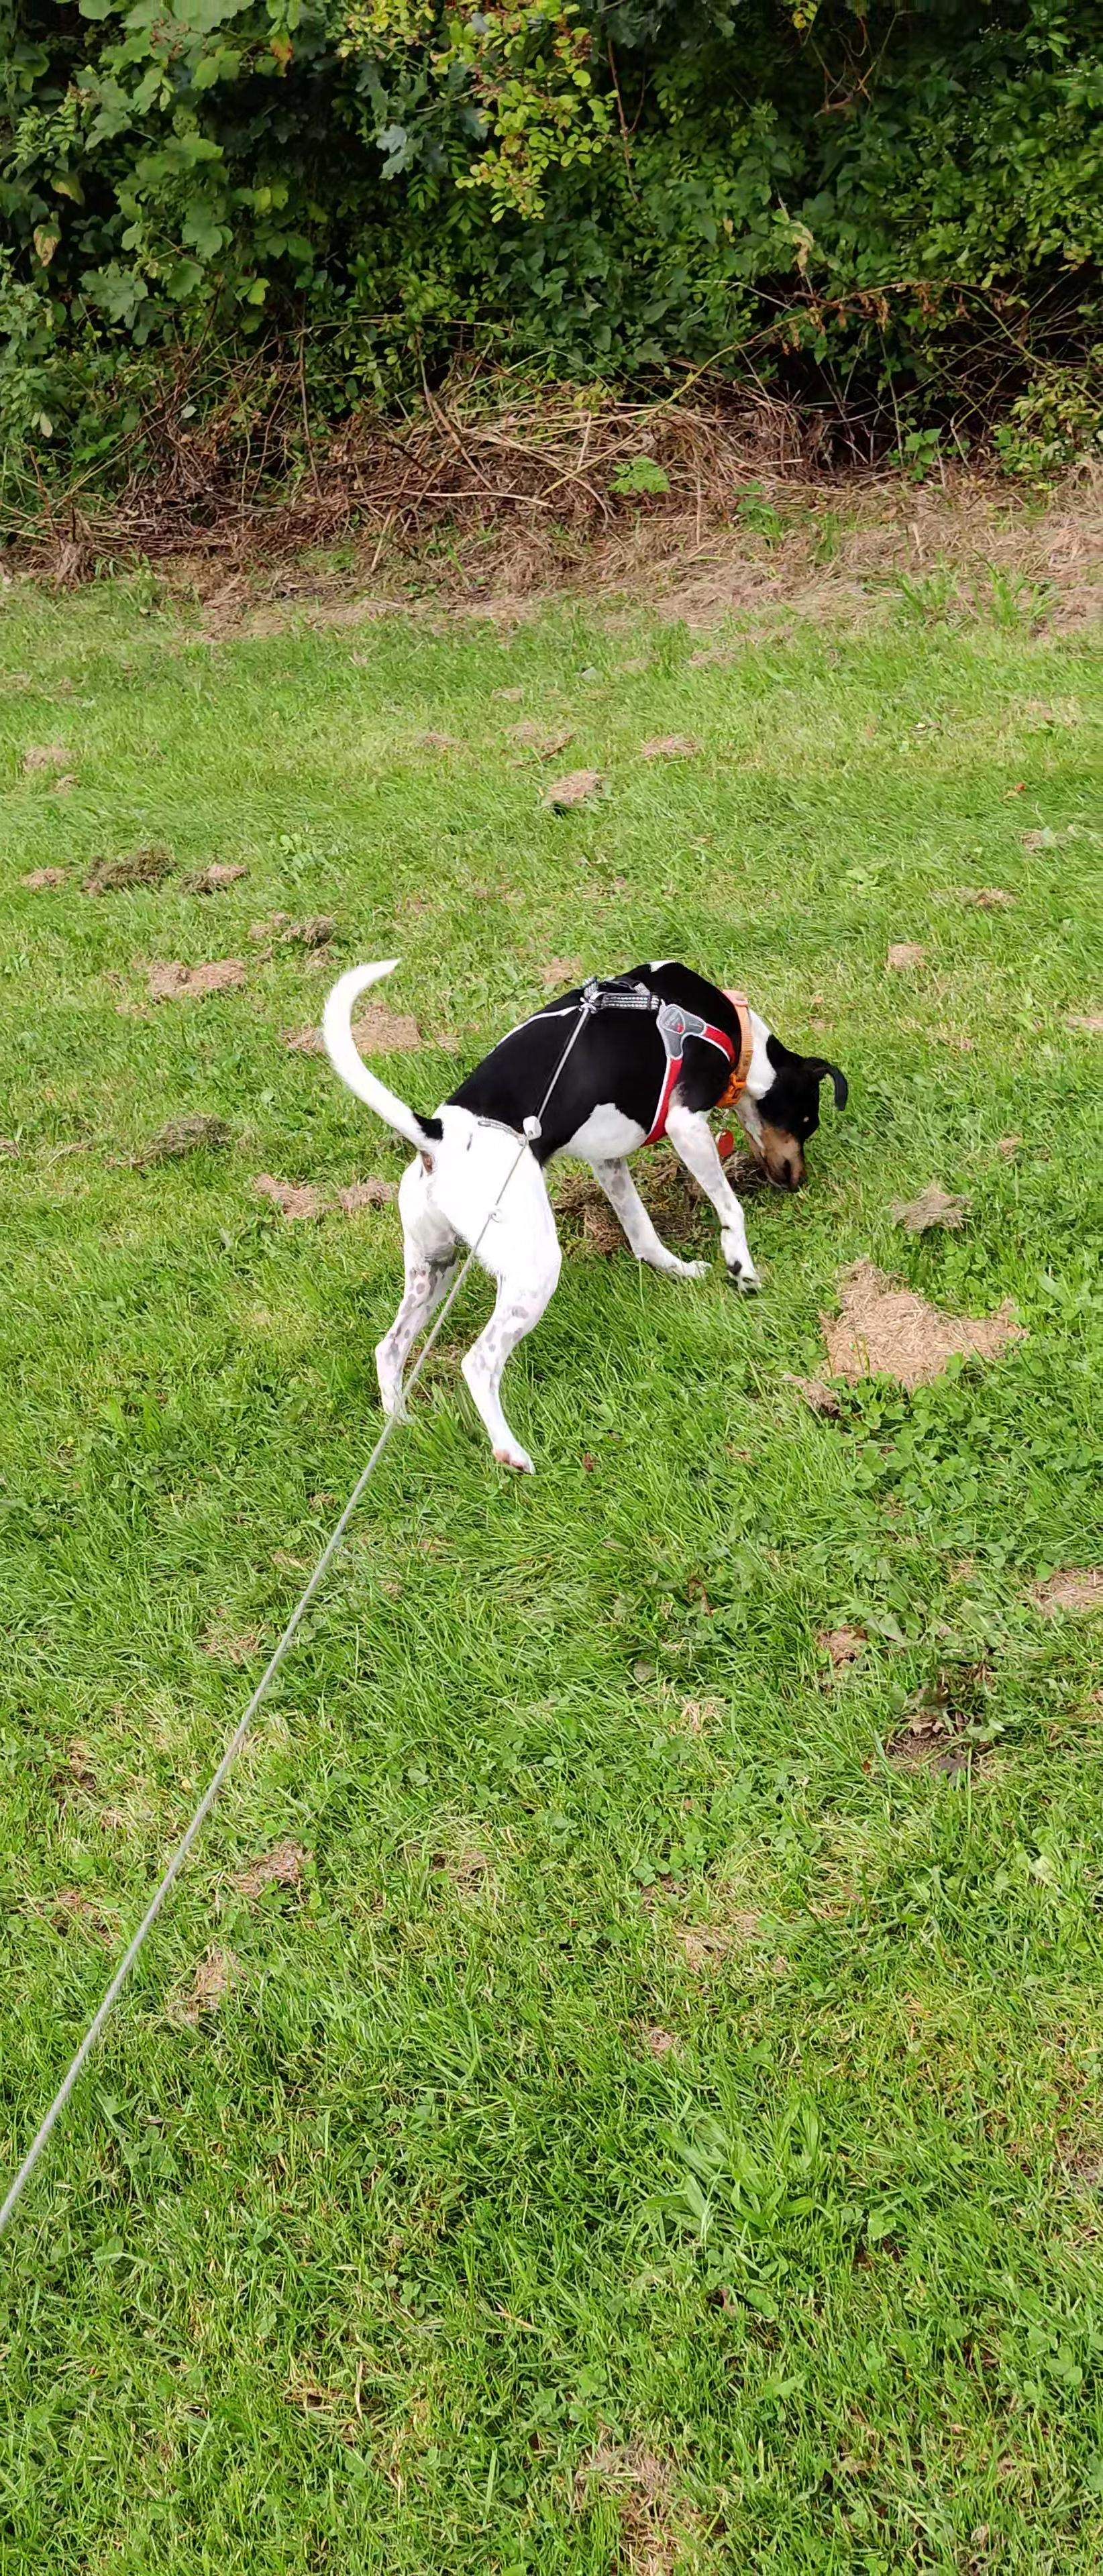Dog: (317, 930, 855, 1482)
